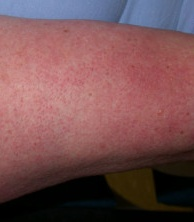SJS-TEN: (0, 15, 194, 206)
